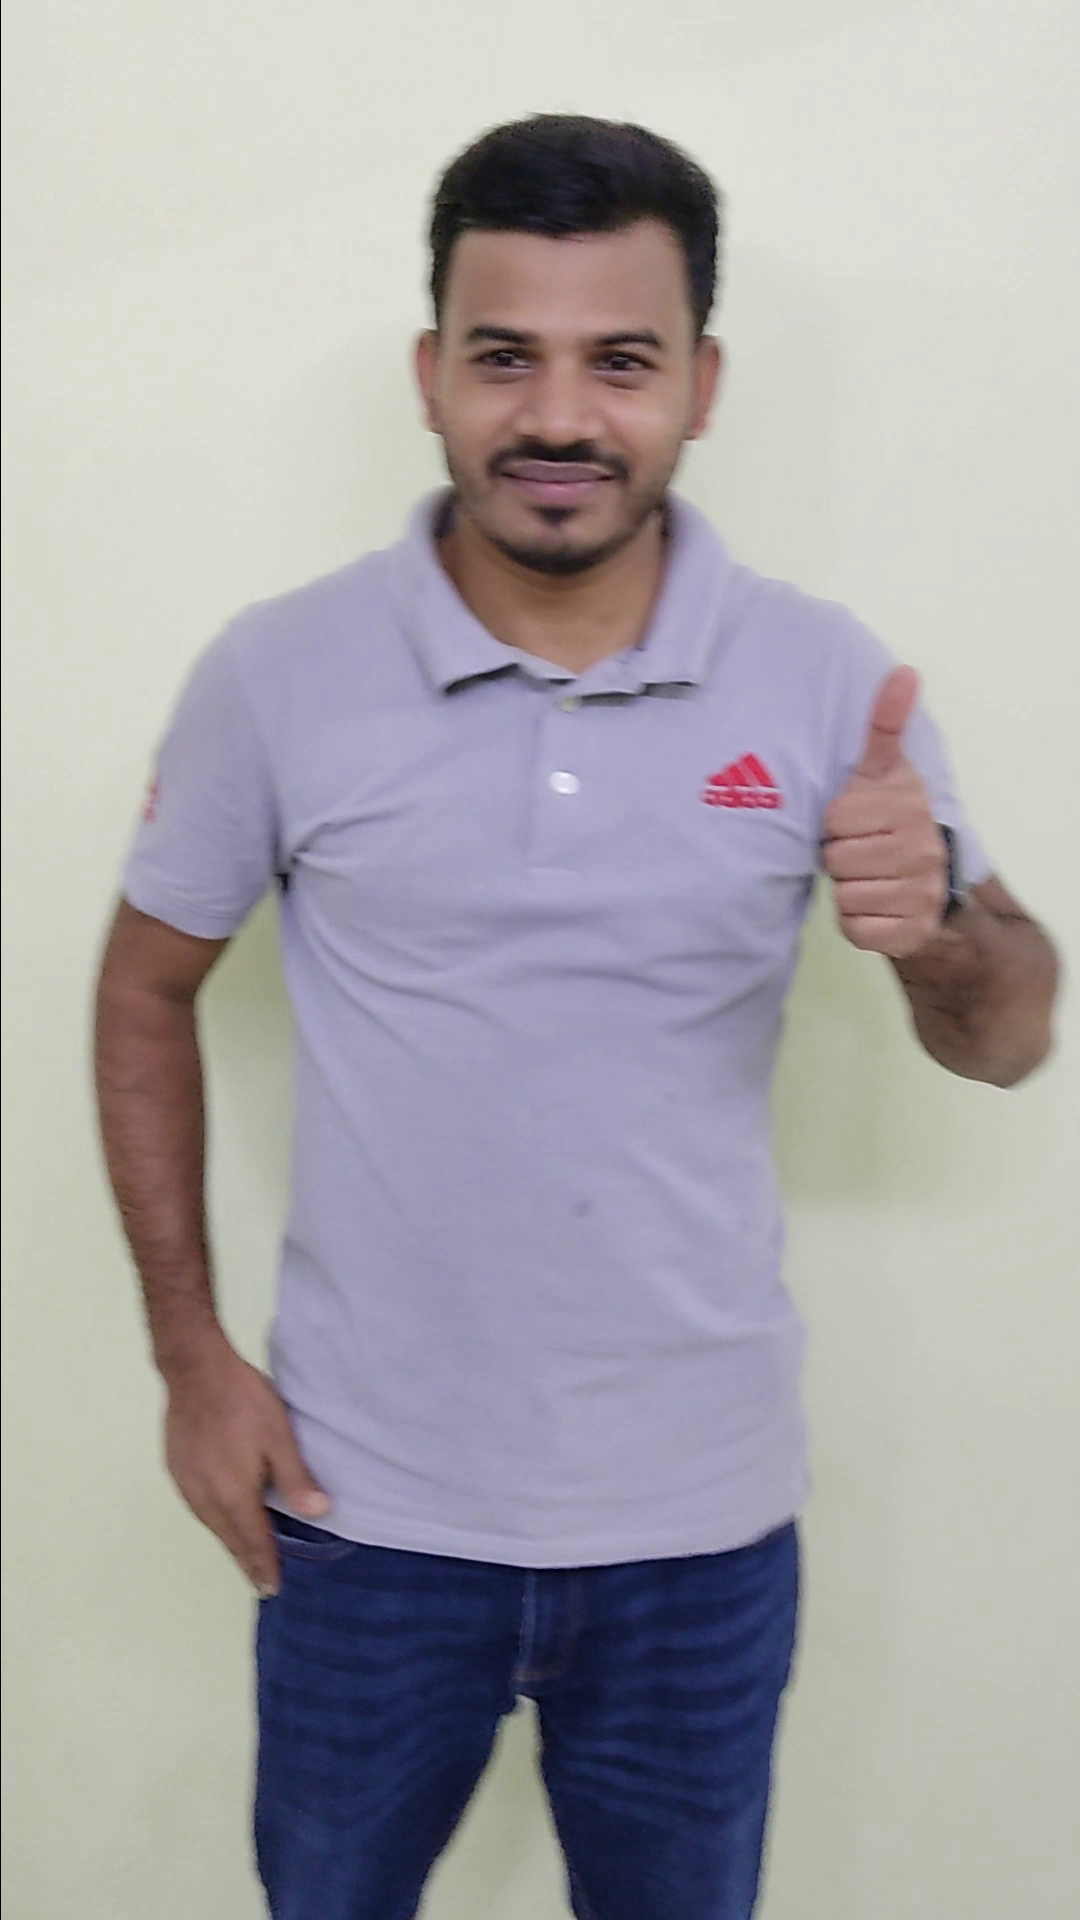Like: (767, 647, 986, 973)
None: (135, 1327, 343, 1617)
